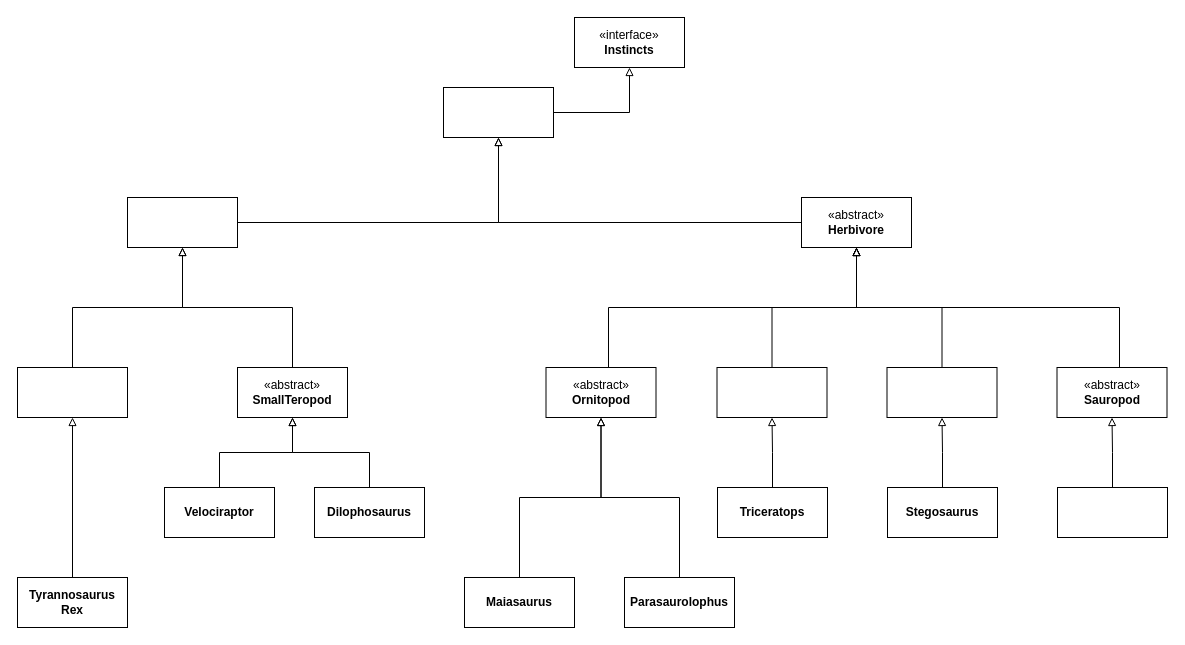
Some shapes in this 1185 by 645 pixel diagram are drawn without their labels. Each missing label, with the centre of its shape:
"Brachiosaurus" belongs at point 1112,512.
"«abstract» Animal" belongs at point 498,112.
"«abstract» BigTeropod" belongs at point 72,392.
"«abstract» Carnivore" belongs at point 182,222.
"«abstract» Marginocephalia" belongs at point 771,392.
"«abstract» Thyreophora" belongs at point 941,392.
